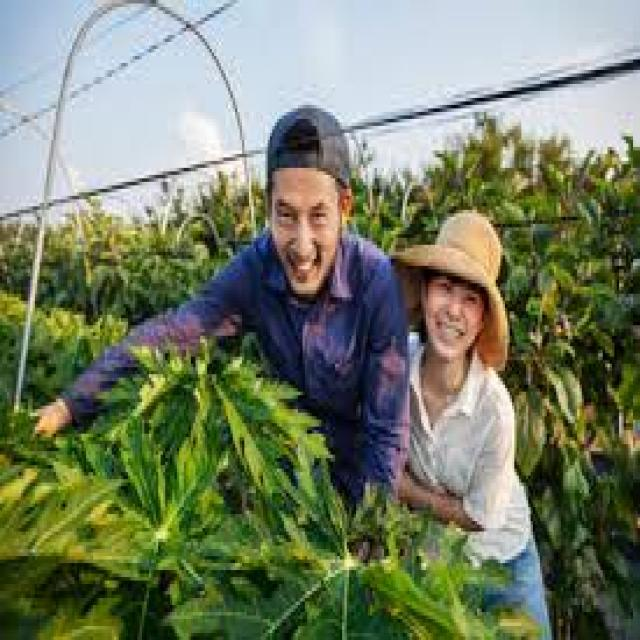cap: (261, 94, 358, 304)
hat: (391, 200, 510, 382)
